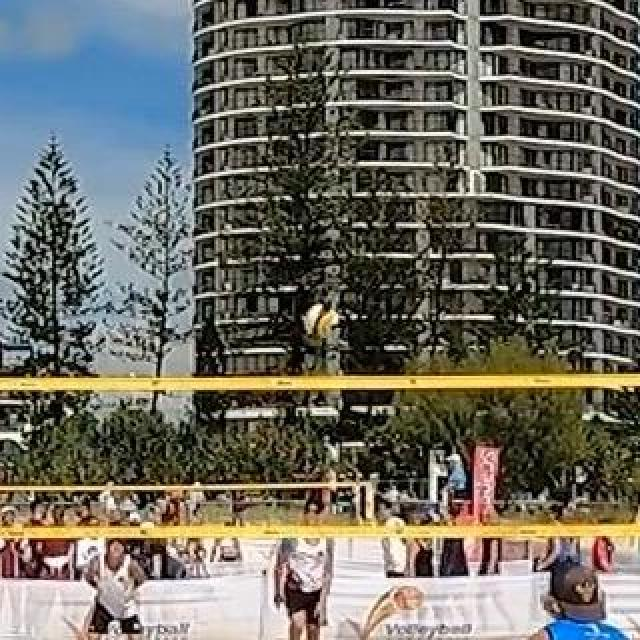volleyball: (306, 304, 338, 338)
